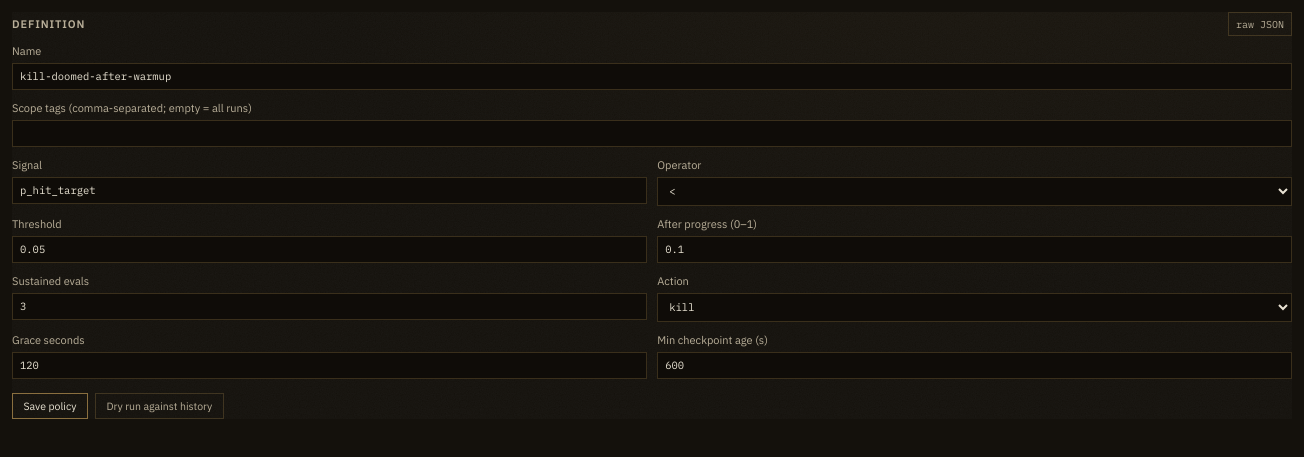
PolicyEditor validation › empty name blocks saving with a message
This screenshot has width=1304, height=457.
Clear the field labelled "Name" at (652, 76), box [12,63,1292,90]
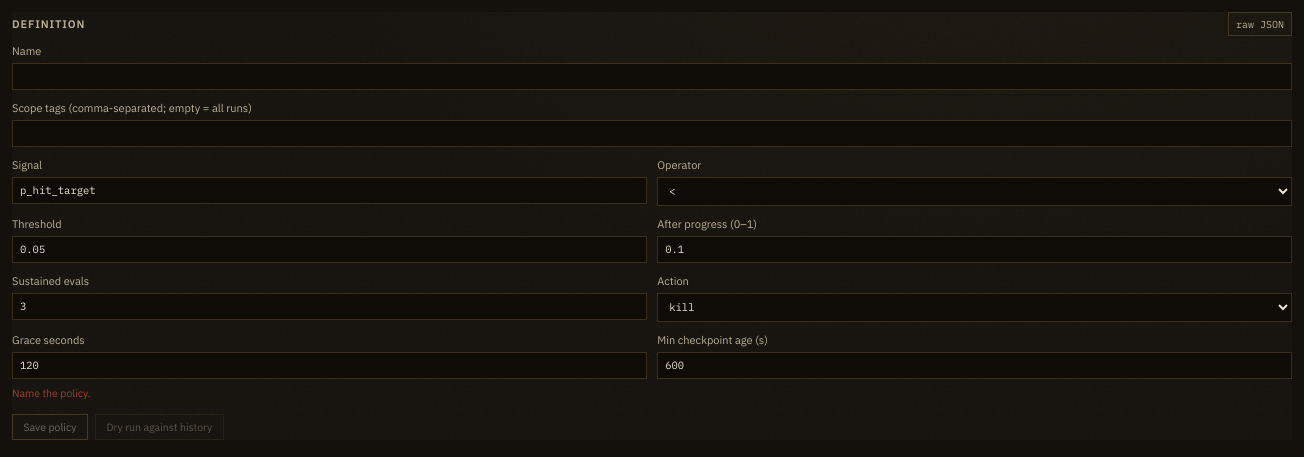
Check: the message reads "Name the policy.", box [12,386,91,400]
Check: the button with test id "save-policy" is disabled, box [12,414,88,440]
